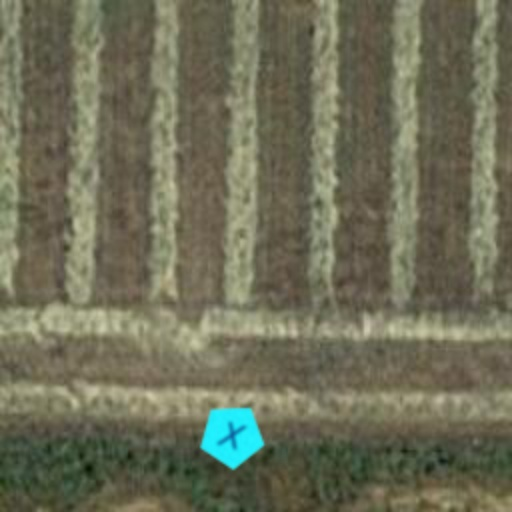pentagon: (190, 394, 274, 478)
